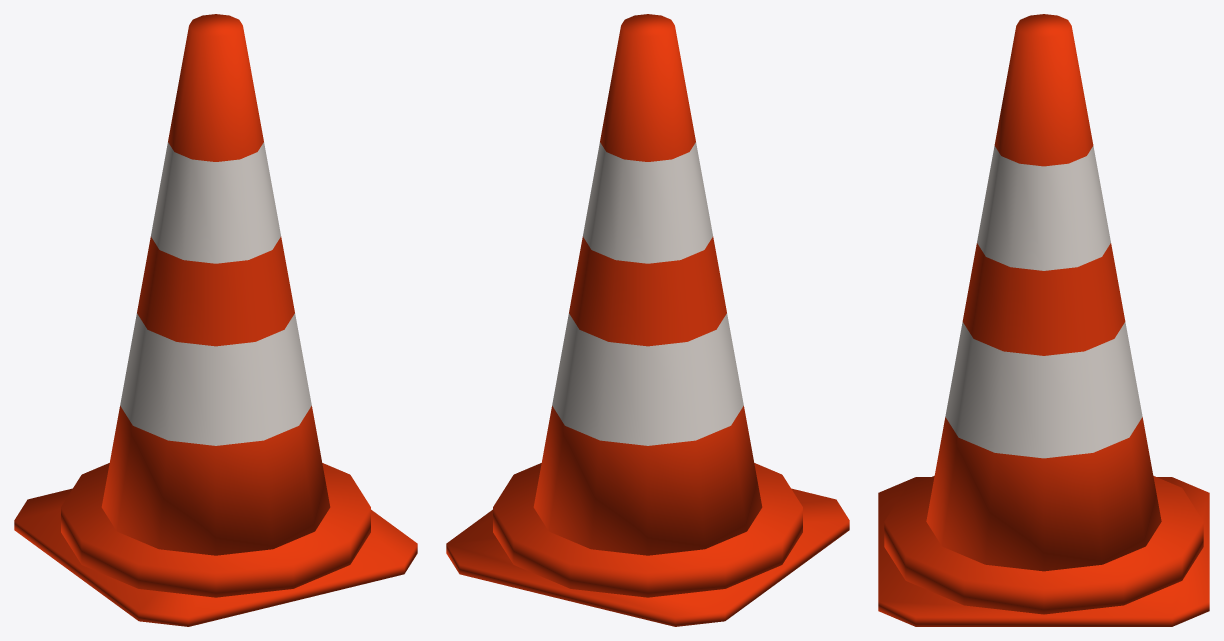
File: ugrdv_cone_largeorange.fbx
3 renders of one model, left to right at view 1: azimuth 30°, elevation 25°; view 2: azimuth 150°, elevation 25°; view 3: azimuth 270°, elevation 25°, orthographic. The views are drawn at different scales.
Visible parts, largest first — view 1: Big Orange Low Poly; view 2: Big Orange Low Poly; view 3: Big Orange Low Poly.
Boxes of the visible parts, bbox=[...] form: Big Orange Low Poly: bbox=[14, 14, 417, 626]; Big Orange Low Poly: bbox=[446, 14, 849, 626]; Big Orange Low Poly: bbox=[878, 14, 1209, 626].
Size of the model in its own units: 28.61 by 50.6 by 28.61.
